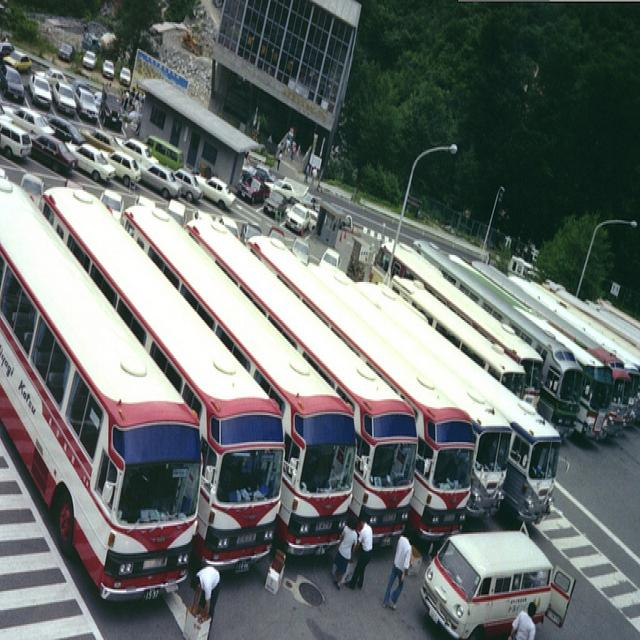Vehicle: (37, 186, 286, 574), (0, 172, 202, 606), (121, 197, 352, 568), (189, 220, 416, 546), (248, 232, 477, 550), (308, 264, 512, 520), (358, 279, 561, 524), (413, 237, 585, 447), (370, 242, 543, 408), (391, 273, 528, 395), (538, 314, 612, 441), (44, 43, 133, 124), (65, 136, 120, 182), (30, 132, 79, 173), (1, 104, 57, 136), (100, 149, 141, 191), (195, 173, 237, 213), (1, 118, 32, 161), (144, 161, 180, 198), (114, 137, 159, 164), (236, 175, 271, 206), (175, 168, 203, 202), (27, 73, 52, 111), (286, 203, 311, 234), (264, 190, 287, 220)
